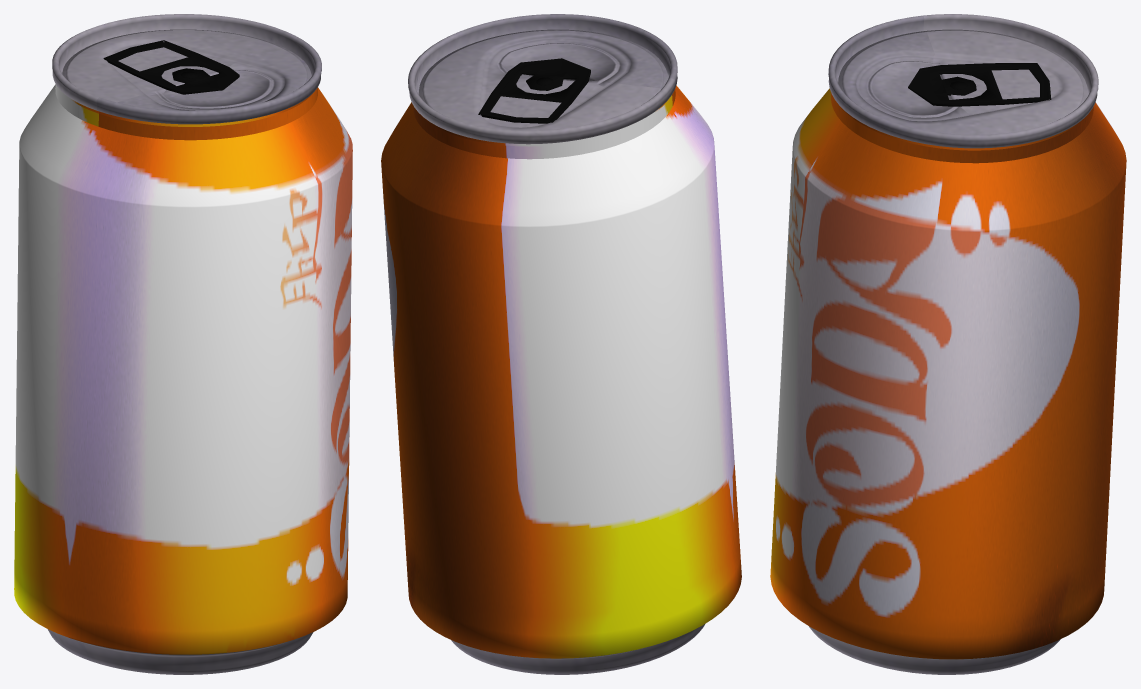
Rendered from cloi can.glb.
3 renders of one model, left to right at view 1: azimuth 30°, elevation 25°; view 2: azimuth 150°, elevation 25°; view 3: azimuth 270°, elevation 25°, orthographic.
Visible parts, largest first — view 1: can.003; view 2: can.003; view 3: can.003.
Part boxes in pixels (x1,y1,x2,y2): can.003: [14, 14, 352, 674]; can.003: [381, 14, 741, 674]; can.003: [770, 14, 1126, 674].
Size of the model in its own units: 3.1 by 5.47 by 3.13.
1 material, 1 textured.
